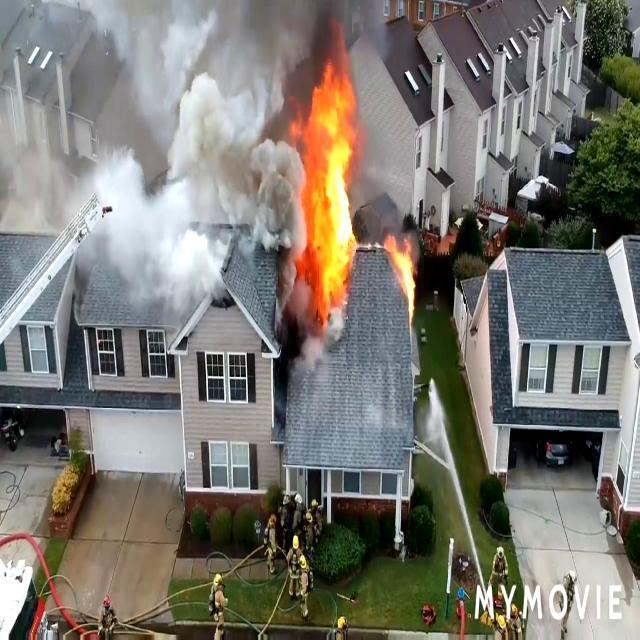Fire: (299, 61, 364, 327), (393, 241, 413, 308)
Smoke: (87, 4, 286, 304)
